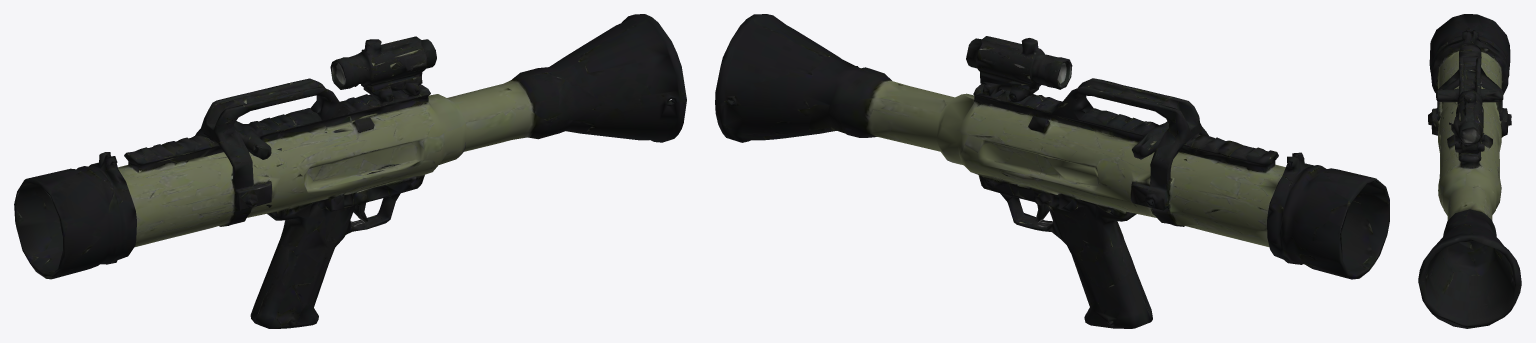
File: gun_rocket_lo.glb
3 renders of one model, left to right at view 1: azimuth 30°, elevation 25°; view 2: azimuth 150°, elevation 25°; view 3: azimuth 270°, elevation 25°, orthographic. The views are drawn at different scales.
Bounding box in the file's own units: 1.9 × 0.7736 × 0.3541.
Materials: 1 (1 with a texture image).
